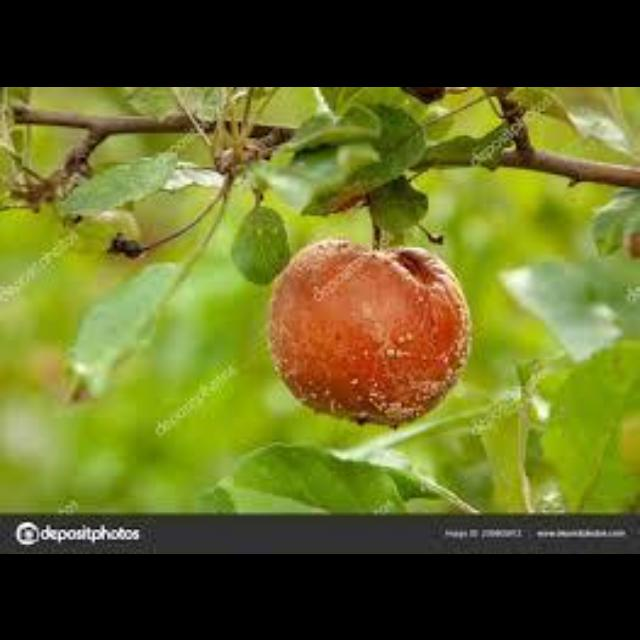apple: (268, 237, 470, 424)
rotten: (268, 237, 470, 424)
